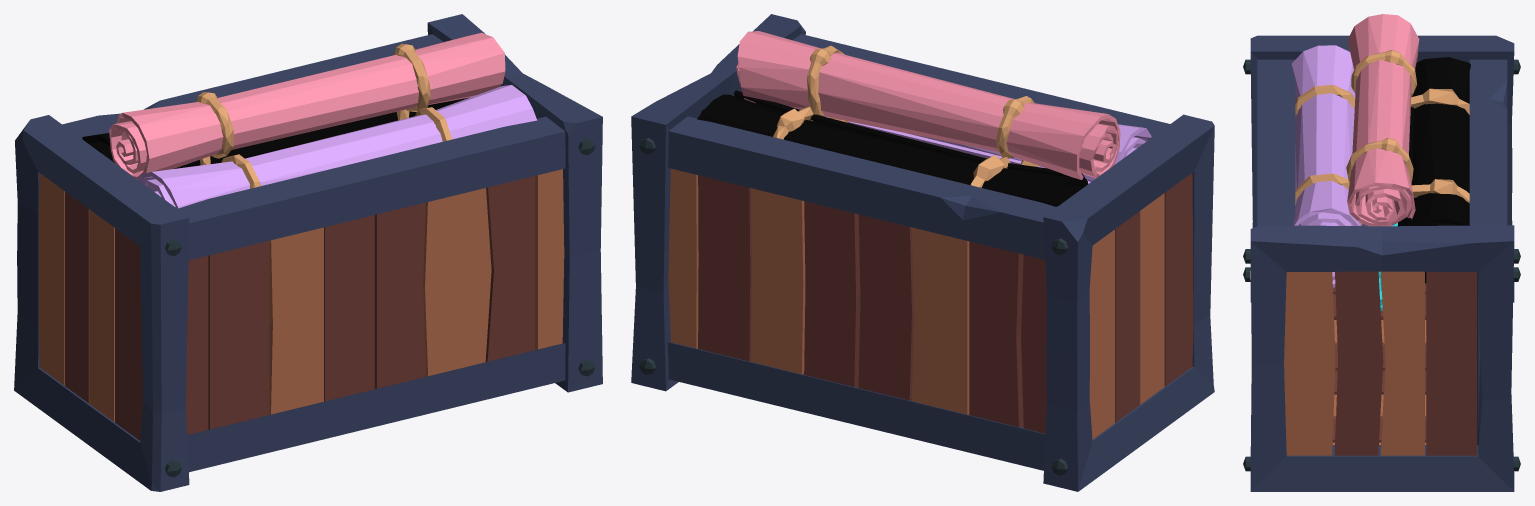
Rendered from Cloth Box 02.fbx.
3 views of the same model, side by side, from view 1: azimuth 30°, elevation 25°; view 2: azimuth 150°, elevation 25°; view 3: azimuth 270°, elevation 25° (orthographic). The views are drawn at different scales.
Parts seen in each view (by area): view 1: Box Cloth 02; view 2: Box Cloth 02; view 3: Box Cloth 02.
Boxes of the visible parts, box(x1,y1,x2,y2) form: Box Cloth 02: box(14, 14, 602, 491); Box Cloth 02: box(631, 14, 1214, 491); Box Cloth 02: box(1243, 14, 1520, 491).
Size of the model in its own units: 164 by 110 by 93.55.
